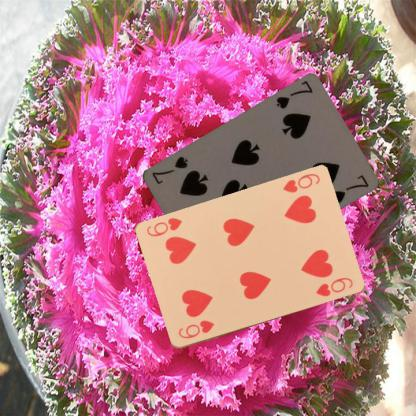6h: (280, 171, 321, 195), (176, 318, 216, 340)
7s: (274, 78, 314, 111)
